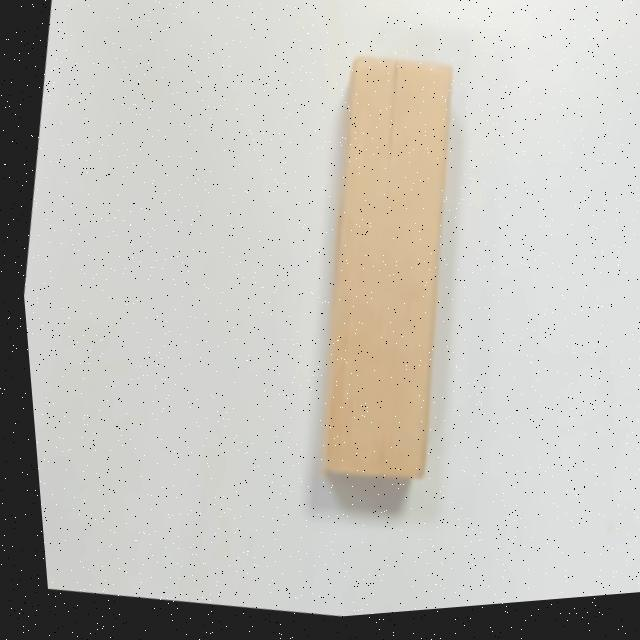Jenga: (279, 53, 486, 493)
